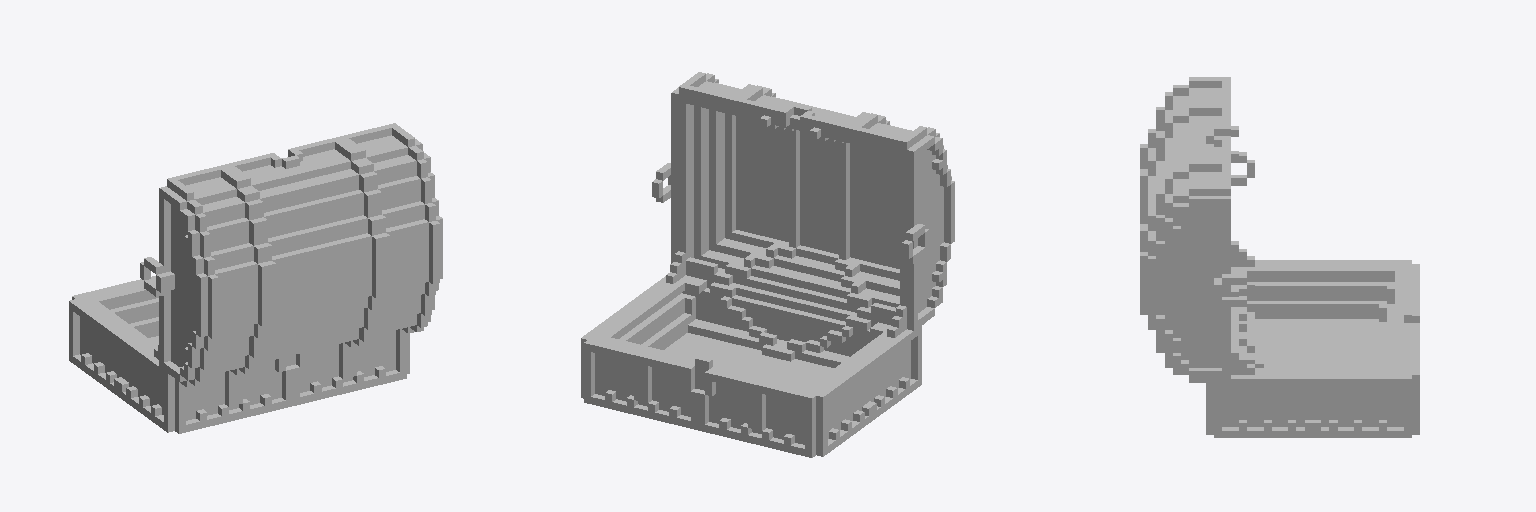
Rendered from Chest Open.obj.
3 views of the same model, side by side, from view 1: azimuth 30°, elevation 25°; view 2: azimuth 150°, elevation 25°; view 3: azimuth 270°, elevation 25° (orthographic).
Parts seen in each view (by area): view 1: object 1; view 2: object 1; view 3: object 1.
Part boxes in pixels (left/top/right/bottom): object 1: left=69, top=123, right=442, bottom=433; object 1: left=581, top=72, right=954, bottom=457; object 1: left=1140, top=77, right=1419, bottom=437.
Bounding box in the file's own units: 3.6 × 3.3 × 3.4.